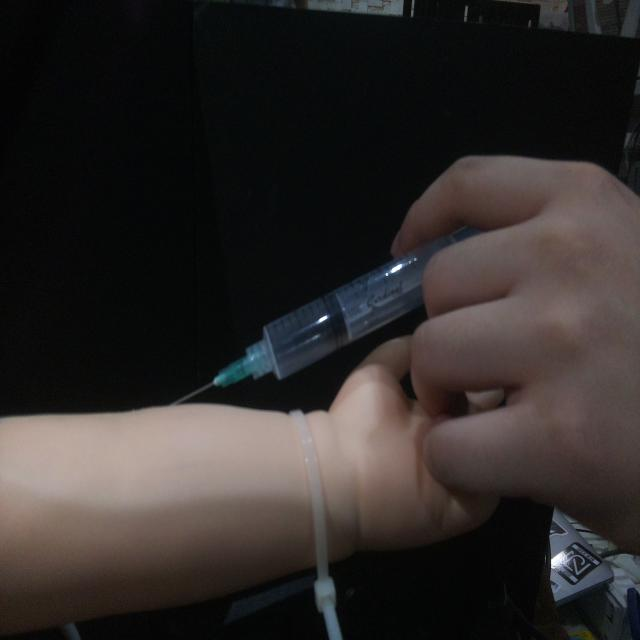17deg: (165, 220, 488, 409)
